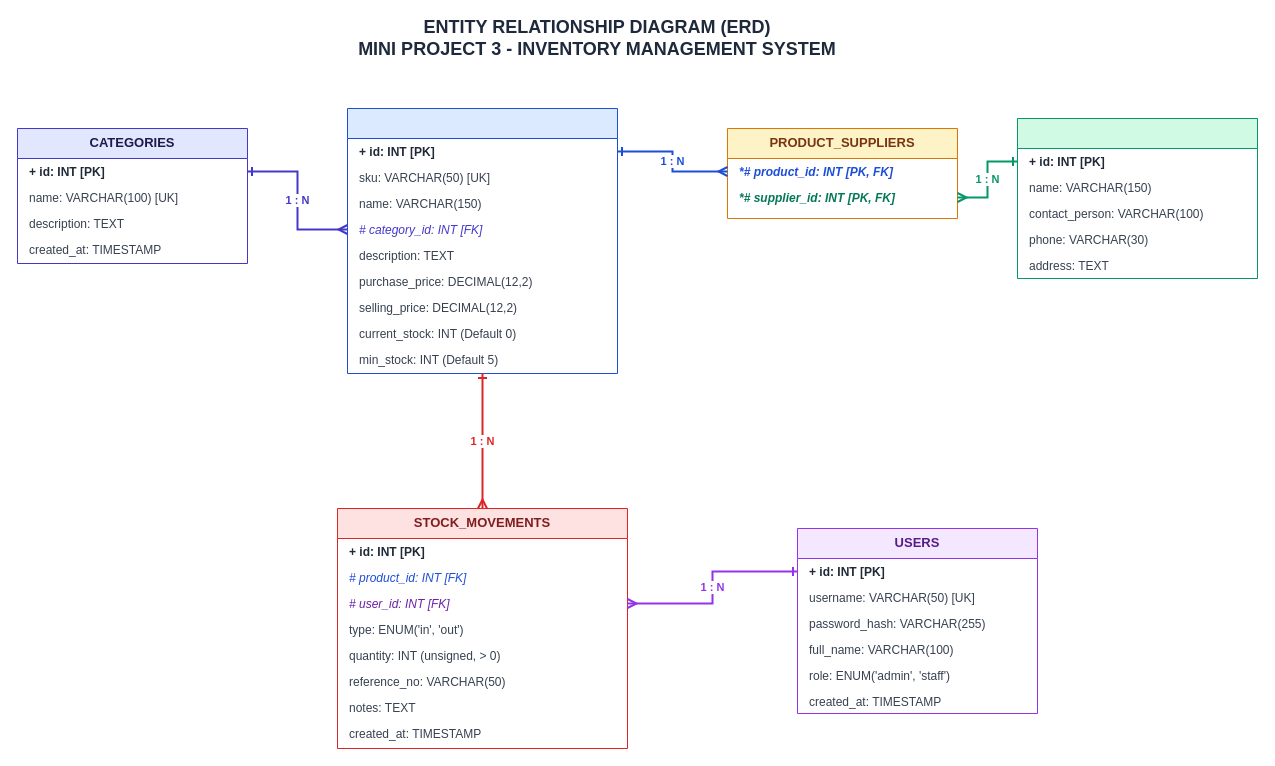
This 1275x766 diagram has some shape labels left out. Here are the shapes that lost their labels. From the top down, the box of each, then its label:
(1016, 118, 1258, 278): SUPPLIERS
(346, 108, 618, 374): PRODUCTS
